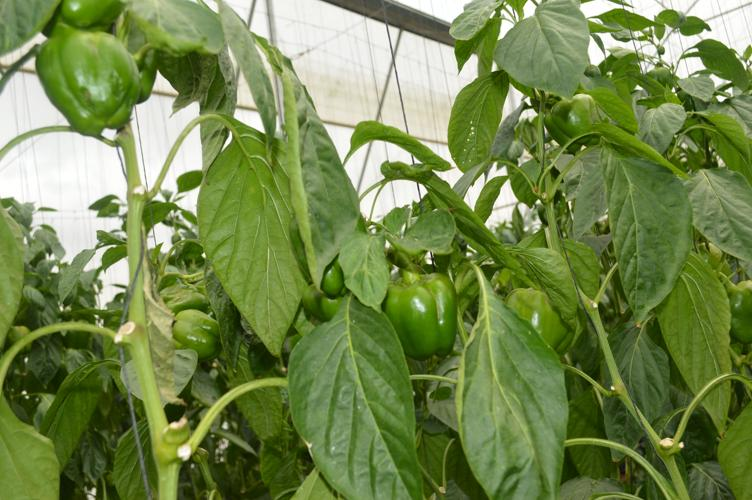BellPepper: (34, 31, 146, 139), (380, 270, 464, 361), (505, 281, 576, 359), (159, 305, 228, 364), (547, 90, 605, 154), (292, 265, 349, 325)
